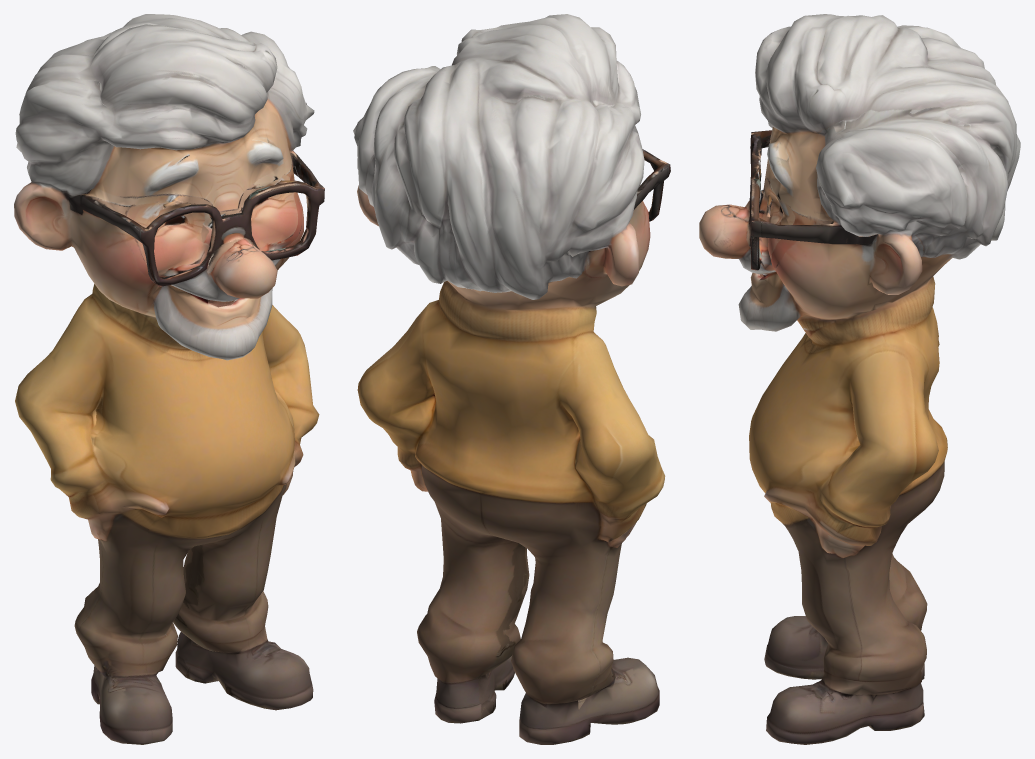
The model's file is grandfather.glb.
3 views of the same model, side by side, from view 1: azimuth 30°, elevation 25°; view 2: azimuth 150°, elevation 25°; view 3: azimuth 270°, elevation 25° (orthographic).
Size of the model in its own units: 28845 by 65722 by 28612.
1 material, 1 textured.
